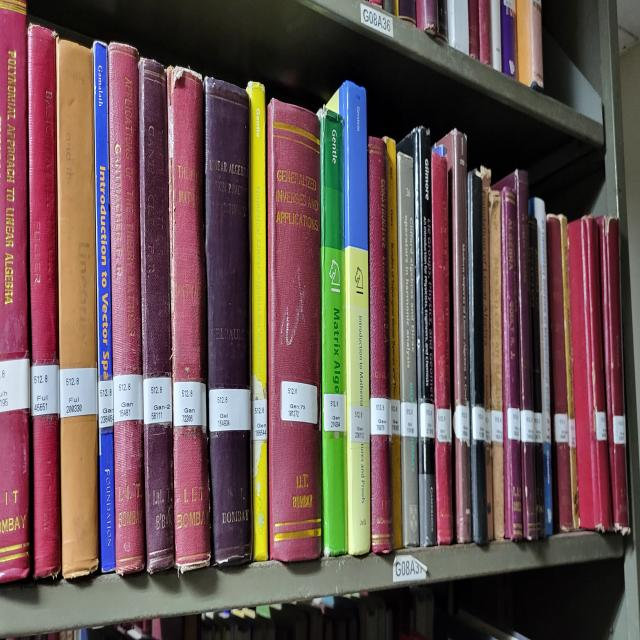Book: (268, 100, 321, 563), (204, 78, 252, 565), (56, 41, 99, 579), (168, 68, 210, 571), (328, 81, 371, 555), (108, 43, 145, 574), (139, 57, 175, 574), (28, 24, 60, 579), (398, 127, 436, 547), (319, 108, 348, 555), (94, 41, 115, 571), (368, 138, 394, 552), (248, 81, 269, 560), (396, 143, 420, 547), (431, 152, 452, 544), (384, 138, 402, 549)
Label: (60, 368, 98, 417), (209, 390, 251, 433), (172, 381, 206, 433), (281, 381, 318, 425), (0, 357, 30, 411), (112, 373, 144, 422), (30, 365, 60, 417), (144, 376, 172, 425), (322, 392, 346, 433), (349, 406, 370, 444), (370, 398, 391, 436), (98, 379, 114, 427), (252, 398, 268, 441), (400, 400, 418, 438), (420, 403, 435, 438), (391, 398, 401, 436)
